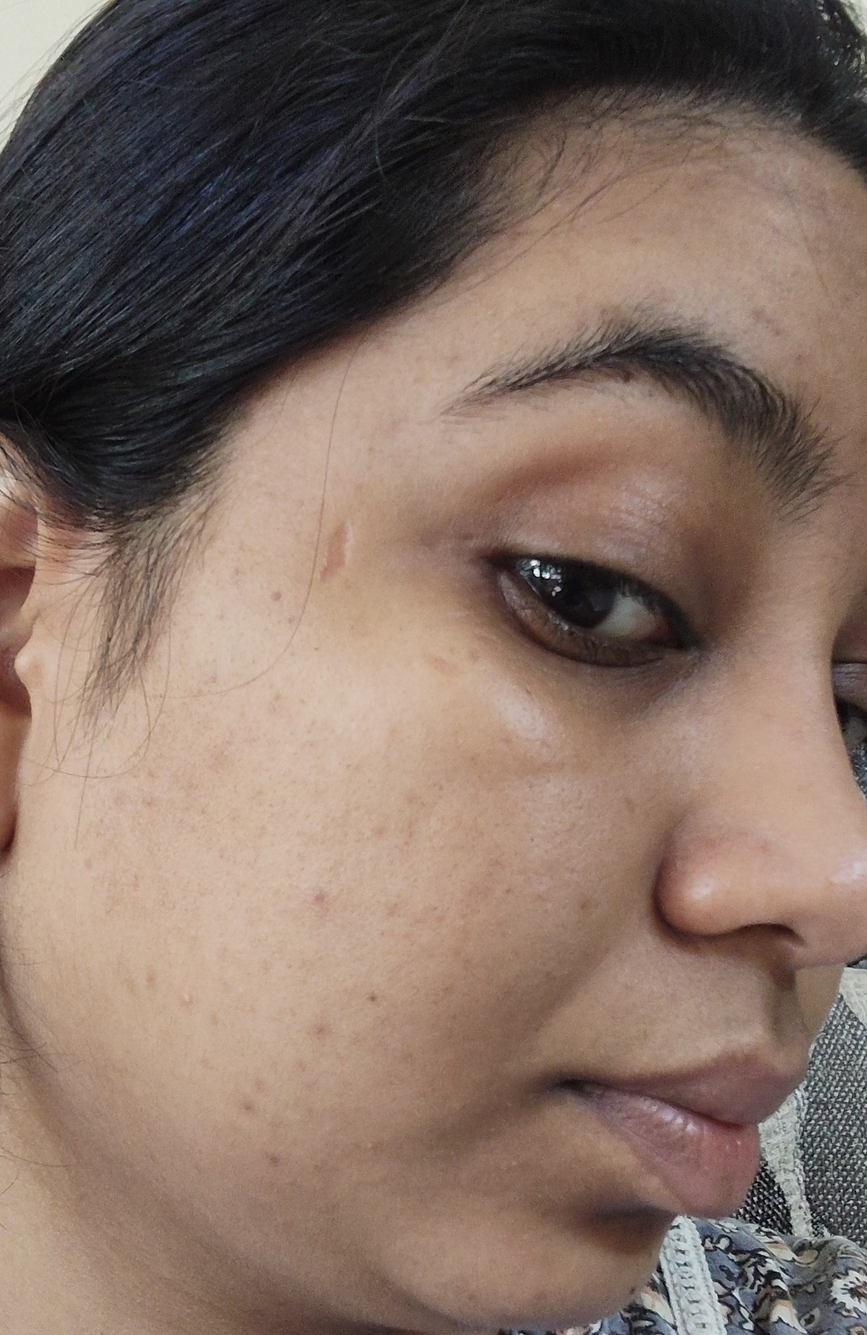closed_comedone: (289, 866, 351, 932), (358, 806, 397, 857)
papule: (298, 1004, 344, 1053)
